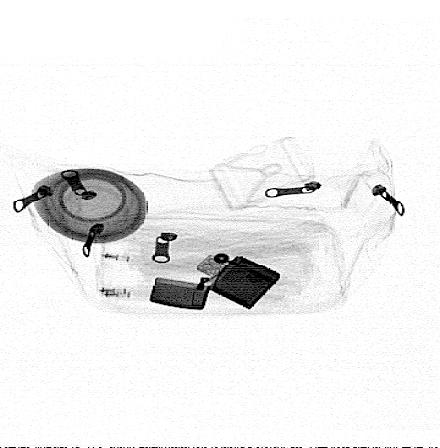Lighter: (150, 253, 281, 312)
